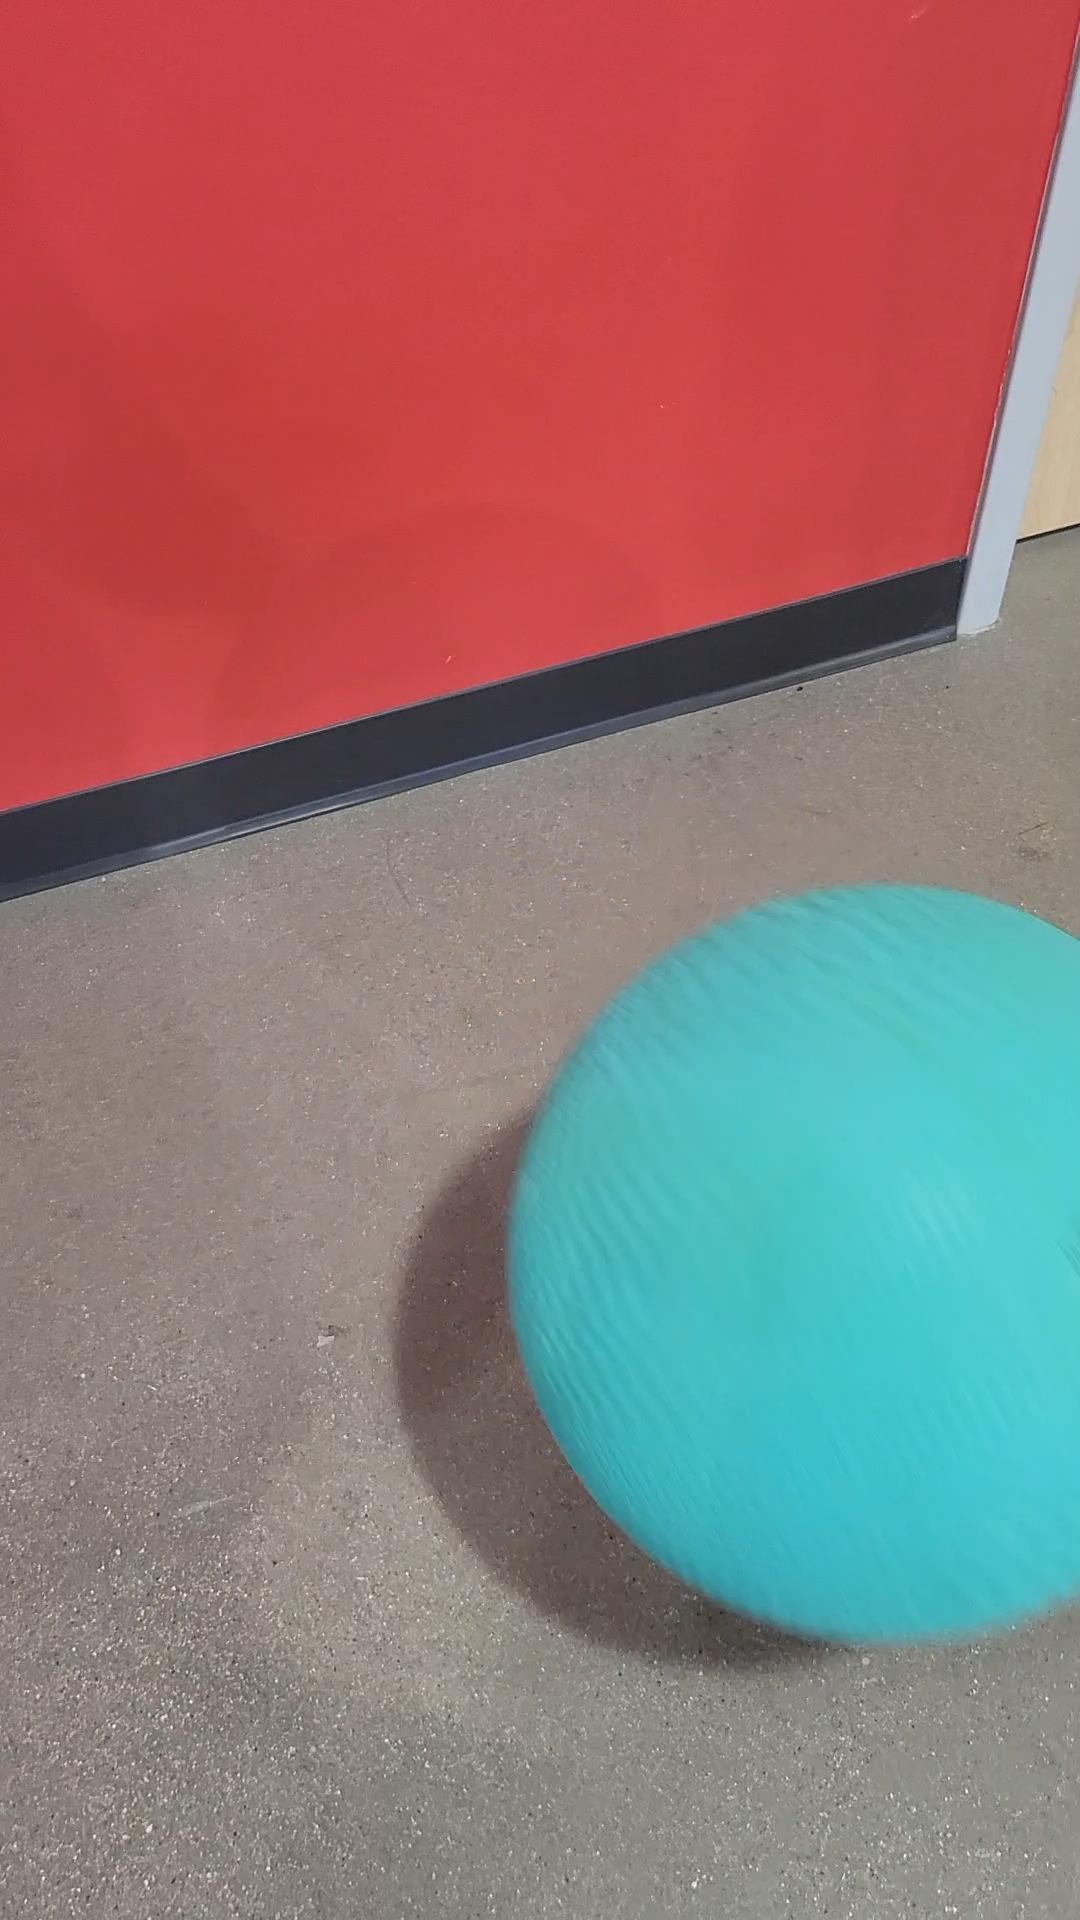algae: (516, 891, 1080, 1640)
